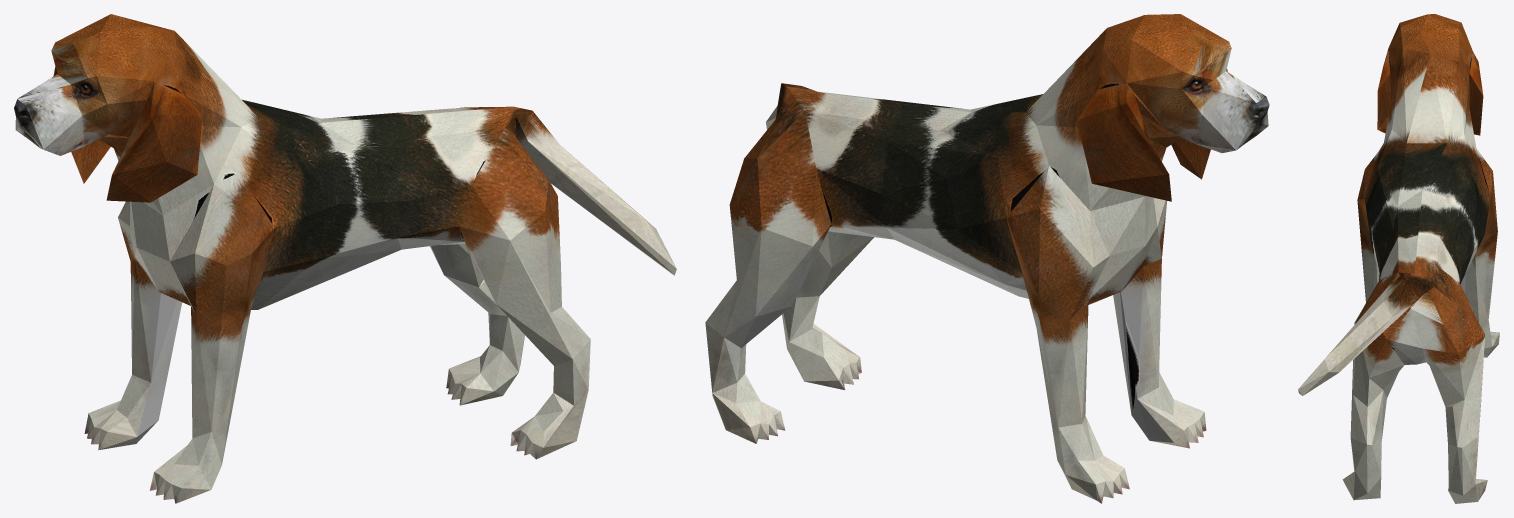
Rendered from dog_t.fbx.
3 renders of one model, left to right at view 1: azimuth 30°, elevation 25°; view 2: azimuth 150°, elevation 25°; view 3: azimuth 270°, elevation 25°, orthographic. The views are drawn at different scales.
Visible parts, largest first — view 1: 13041_Beagle_v1_L1; view 2: 13041_Beagle_v1_L1; view 3: 13041_Beagle_v1_L1.
Part boxes in pixels (x1,y1,x2,y2): 13041_Beagle_v1_L1: [14, 14, 676, 503]; 13041_Beagle_v1_L1: [705, 14, 1269, 503]; 13041_Beagle_v1_L1: [1298, 14, 1499, 503].
Size of the model in its own units: 770 by 622 by 331.
